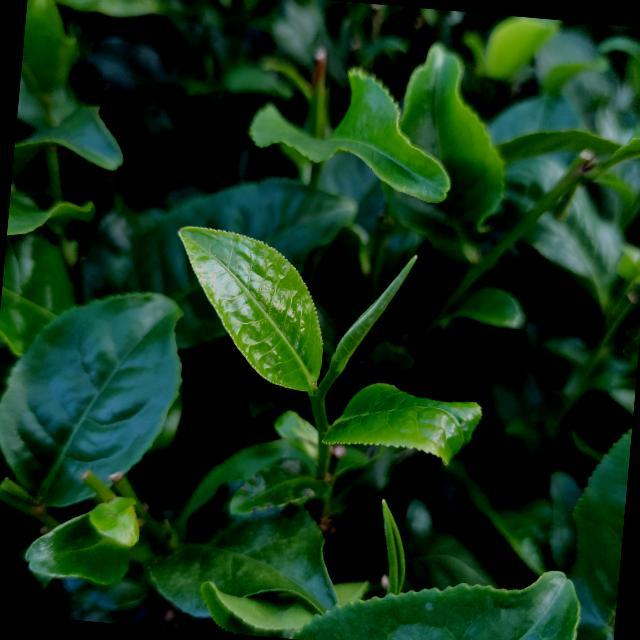Stem: (314, 396, 326, 424)
